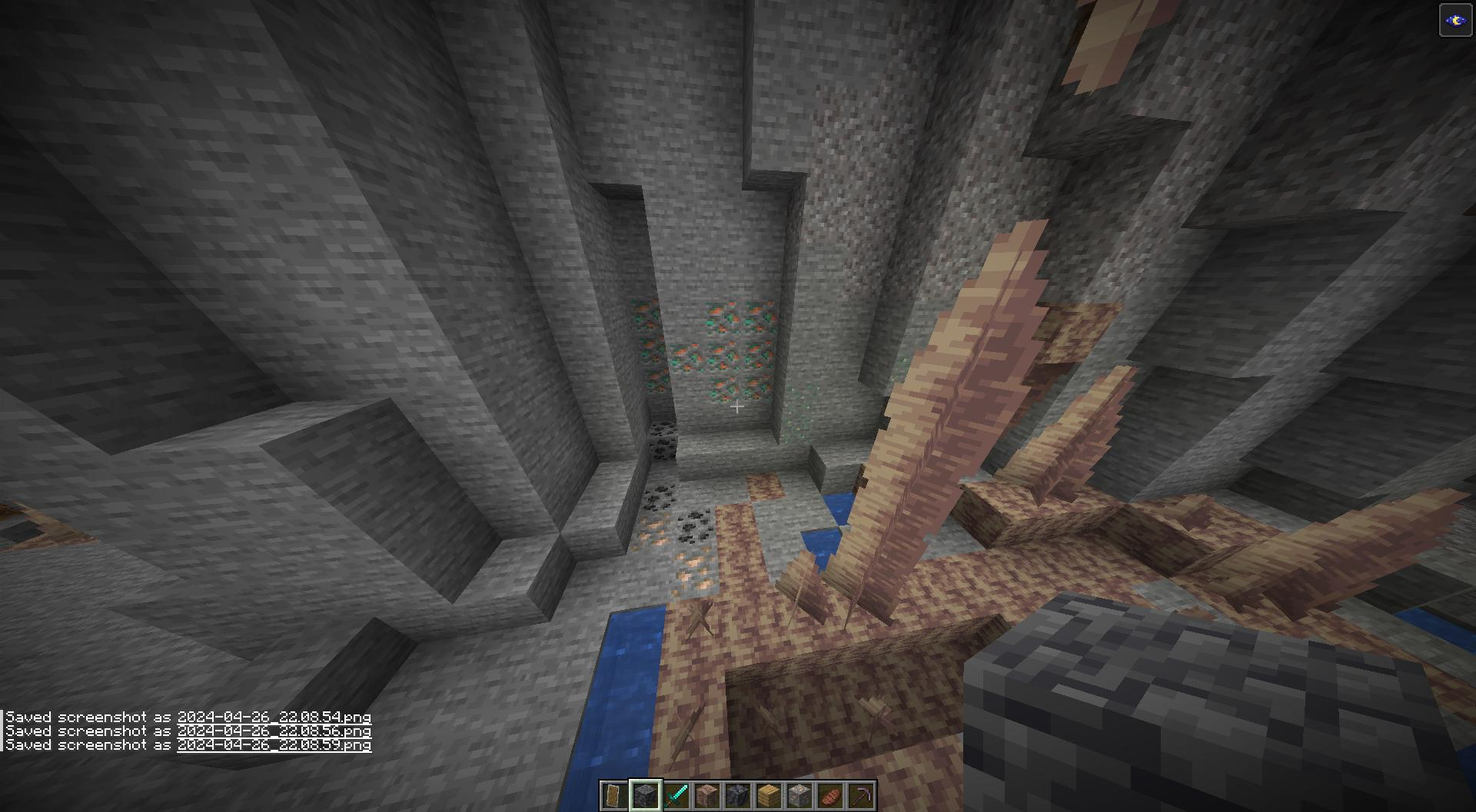iron ore: (671, 547, 720, 596), (633, 515, 672, 550)
